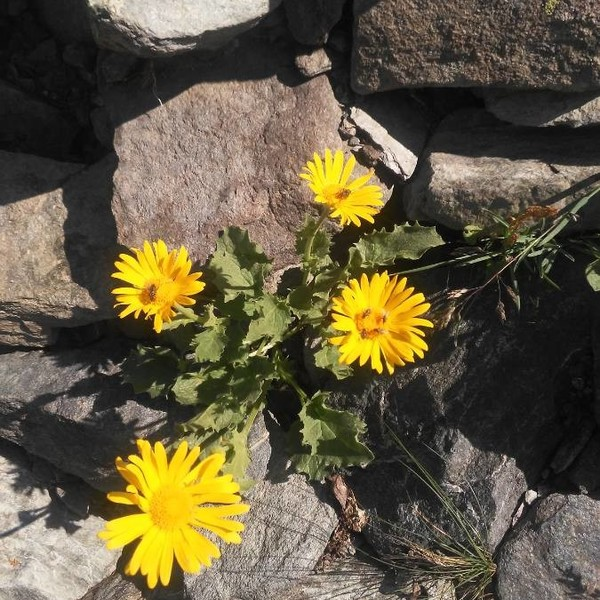obstacle: (109, 142, 439, 567)
